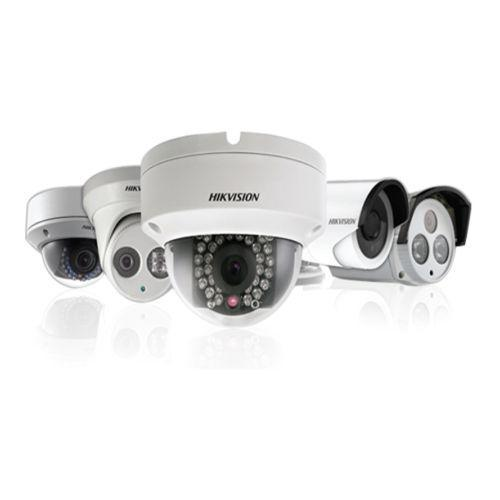CCTV: (26, 132, 472, 326)
